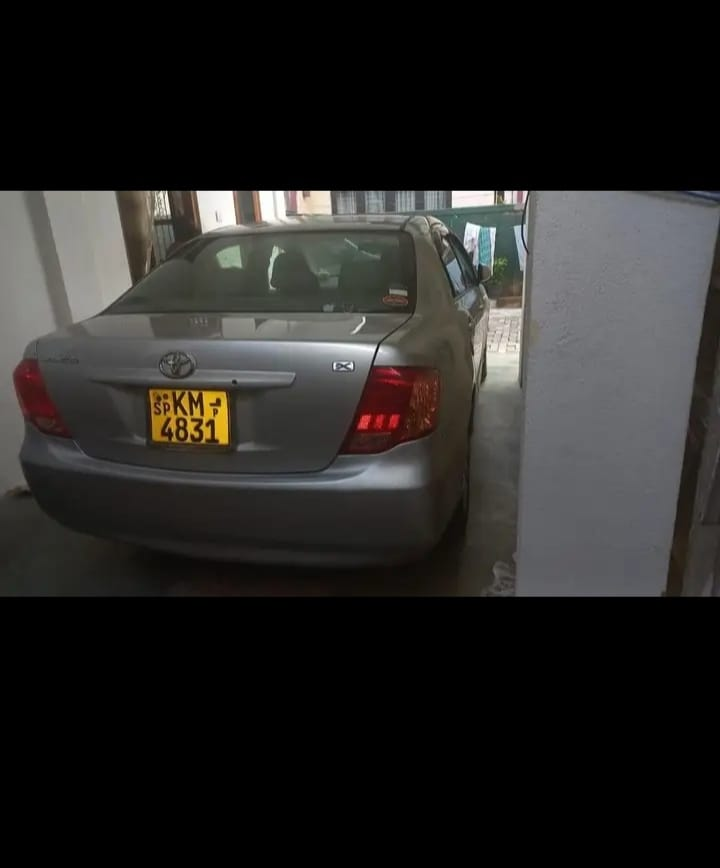number_plate: (149, 389, 232, 448)
